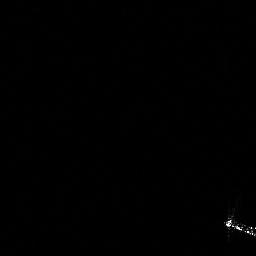ship: (221, 212, 256, 239)
